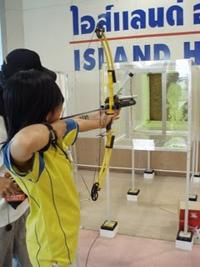person: (1, 48, 117, 267)
